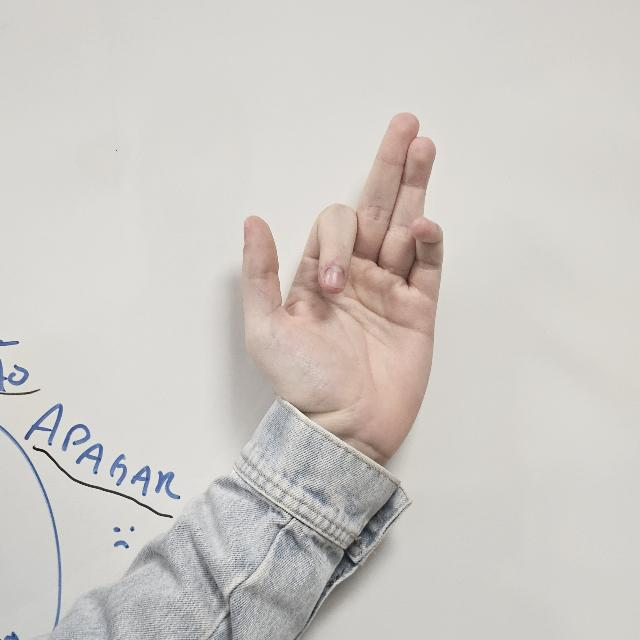R: (233, 112, 442, 468)
